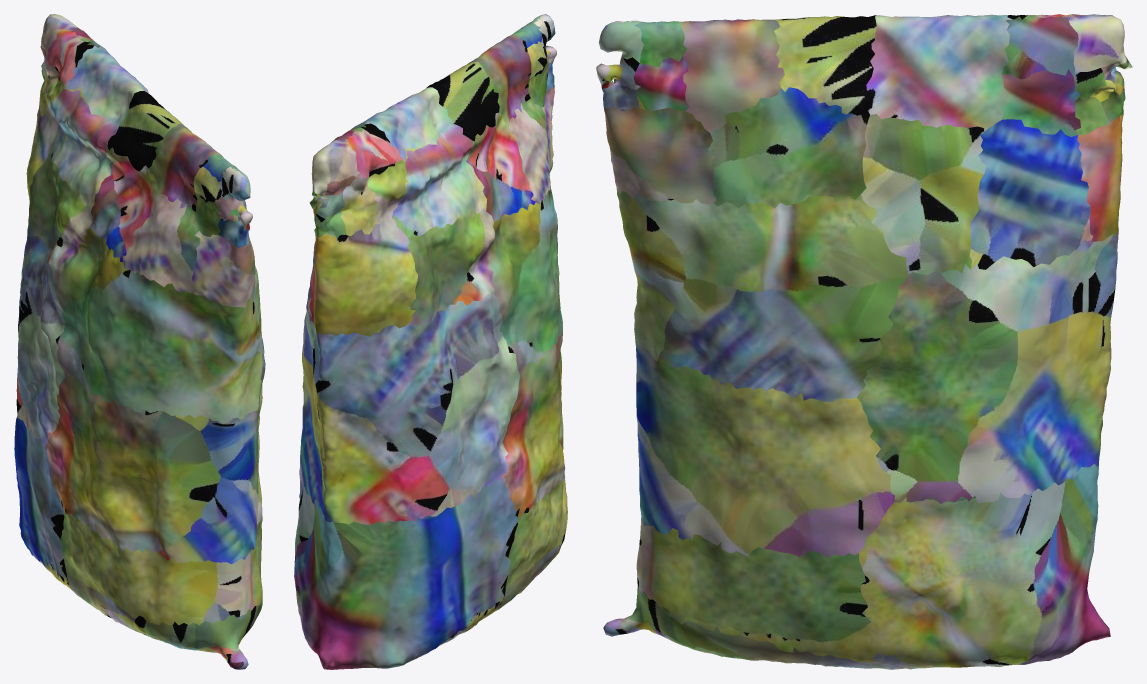
Rendered from Food_Rations_for_astr_0822024947_preview.obj.
The picture shows the model from 3 angles, left to right: view 1: azimuth 30°, elevation 25°; view 2: azimuth 150°, elevation 25°; view 3: azimuth 270°, elevation 25°; orthographic projection. The views are drawn at different scales.
Visible parts, largest first — view 1: Mesh1; view 2: Mesh1; view 3: Mesh1.
Boxes of the visible parts, bbox=[...] form: Mesh1: bbox=[14, 14, 265, 669]; Mesh1: bbox=[294, 14, 567, 669]; Mesh1: bbox=[596, 14, 1132, 669].
Bounding box in the file's own units: 0.4207 × 1.2 × 0.9141.
